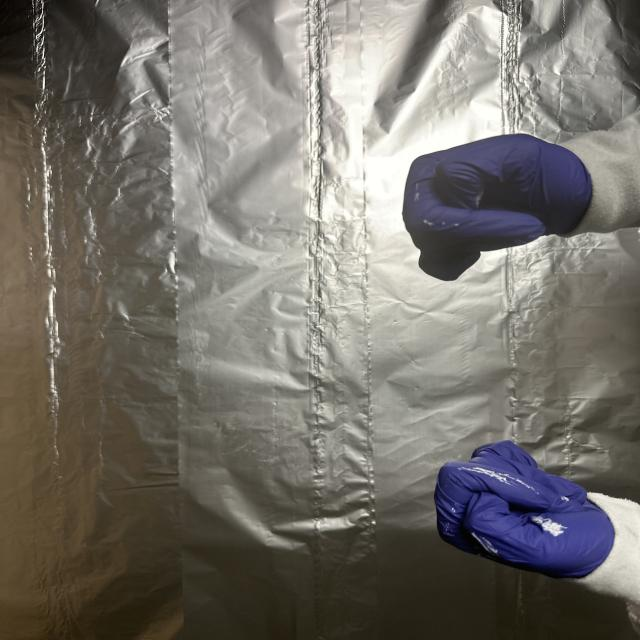gloves_contaminated: (403, 134, 592, 280), (435, 441, 617, 578)
